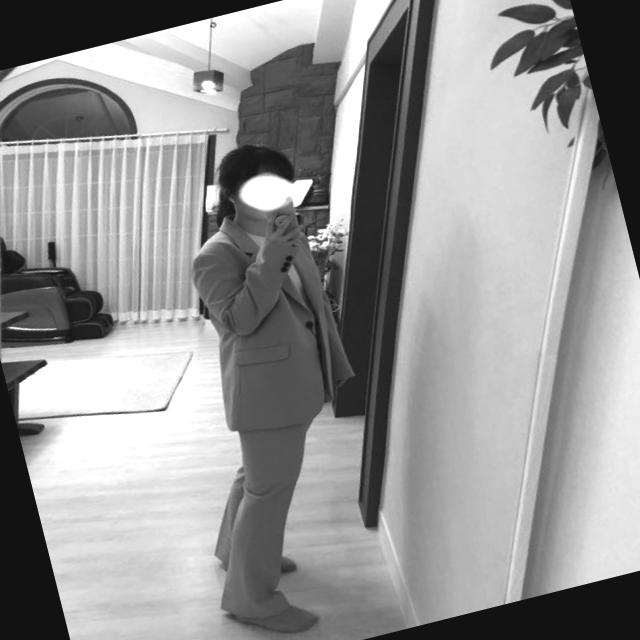blazer: (176, 193, 365, 443)
slacks: (166, 357, 356, 620)
